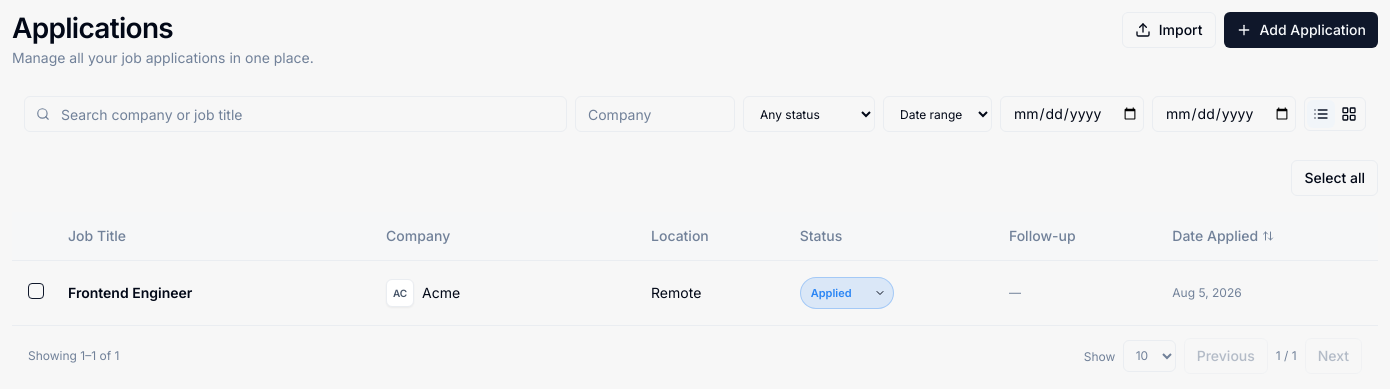
Test case: ApplicationsList › blocks repeat changes while saving and restores the label on failure
Step 1. Select "Interview" in the dropdown named "Change status for Frontend Engineer at Acme" → (847, 292), box left=800, top=276, right=894, bottom=308
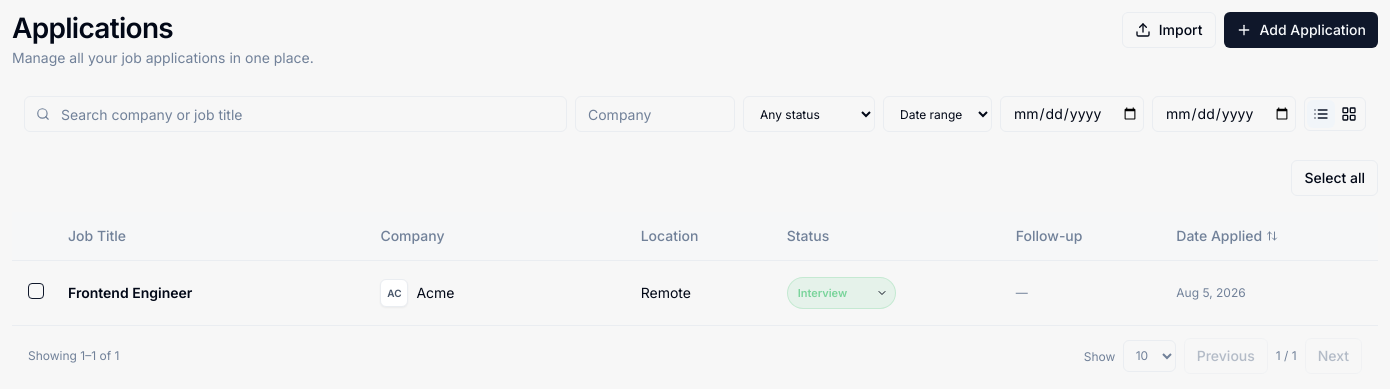
Result: the dropdown named "Change status for Frontend Engineer at Acme" is disabled
Step 2. Select "Offer" in the dropdown named "Change status for Frontend Engineer at Acme" → (841, 292), box left=787, top=276, right=896, bottom=308
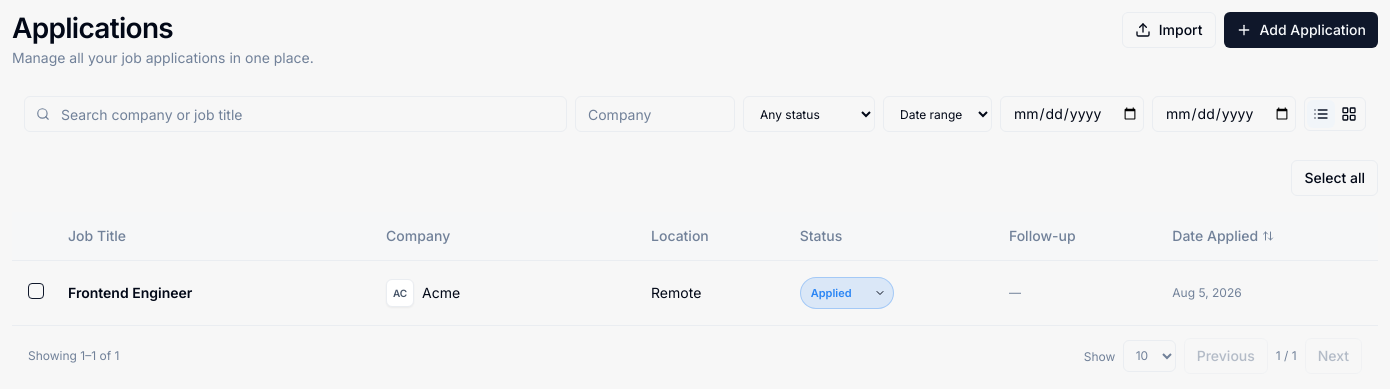
Result: the dropdown named "Change status for Frontend Engineer at Acme" is enabled at left=800, top=276, right=894, bottom=308
